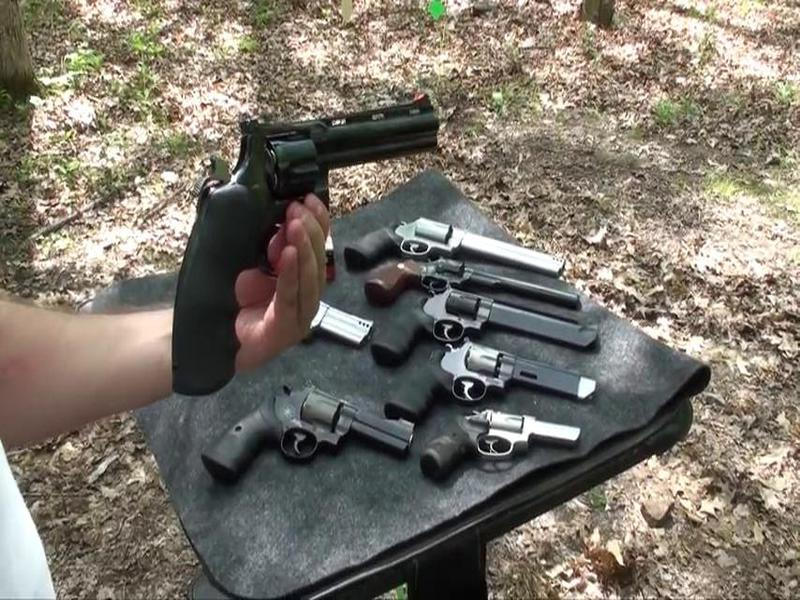Revolver: (147, 74, 450, 402)
